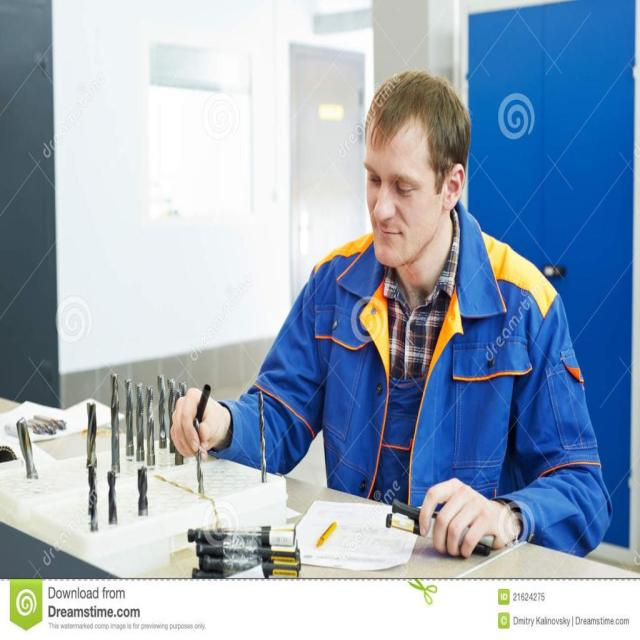Face: (364, 122, 452, 284)
